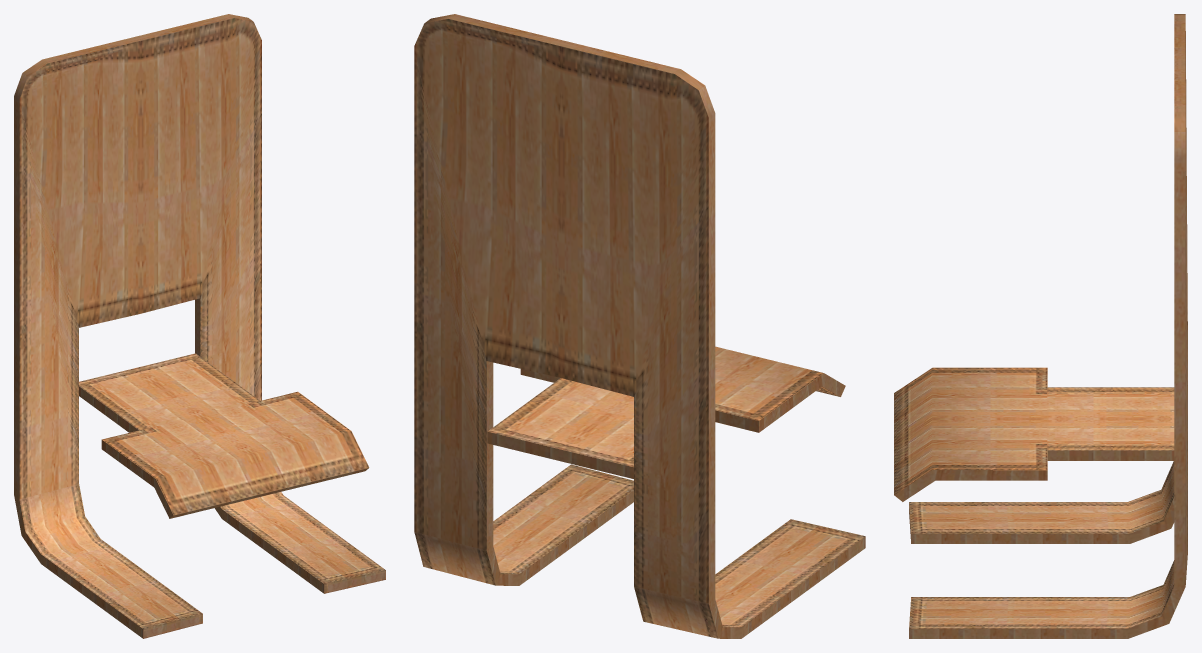
The model's file is frn_all_chair_wooden_s1_l1.fbx.
The picture shows the model from 3 angles, left to right: view 1: azimuth 30°, elevation 25°; view 2: azimuth 150°, elevation 25°; view 3: azimuth 270°, elevation 25°; orthographic projection. The views are drawn at different scales.
Visible parts, largest first — view 1: mesh_node; view 2: mesh_node; view 3: mesh_node.
Boxes of the visible parts, x1=… form: mesh_node: x1=14, y1=14, x2=385, y2=638; mesh_node: x1=414, y1=14, x2=865, y2=638; mesh_node: x1=894, y1=14, x2=1187, y2=638.
Size of the model in its own units: 0.6514 by 1.22 by 0.6369.
Materials: 1 (1 with a texture image).
